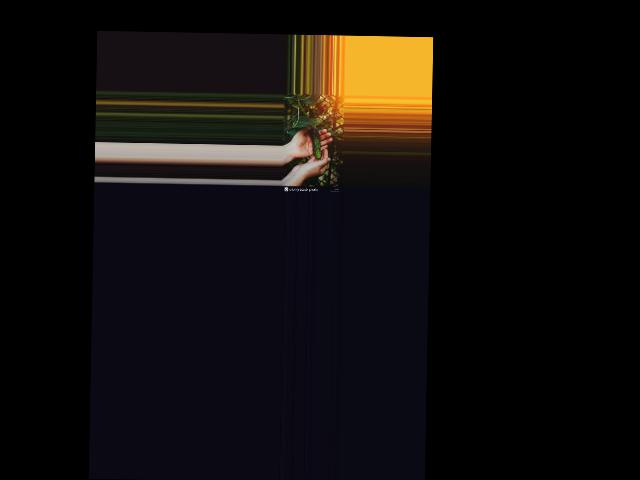cucumber: (310, 128, 322, 159)
